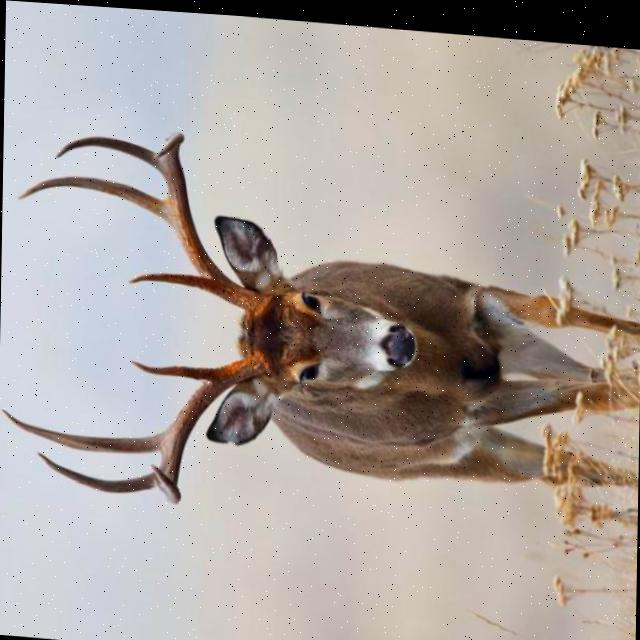L-F: (150, 347, 269, 501)
L-G1: (130, 357, 215, 376)
L-G2: (0, 407, 162, 451)
R-G1: (127, 269, 213, 288)
R-G2: (16, 174, 169, 220)
R-G3: (155, 128, 272, 309), (55, 133, 168, 181)
